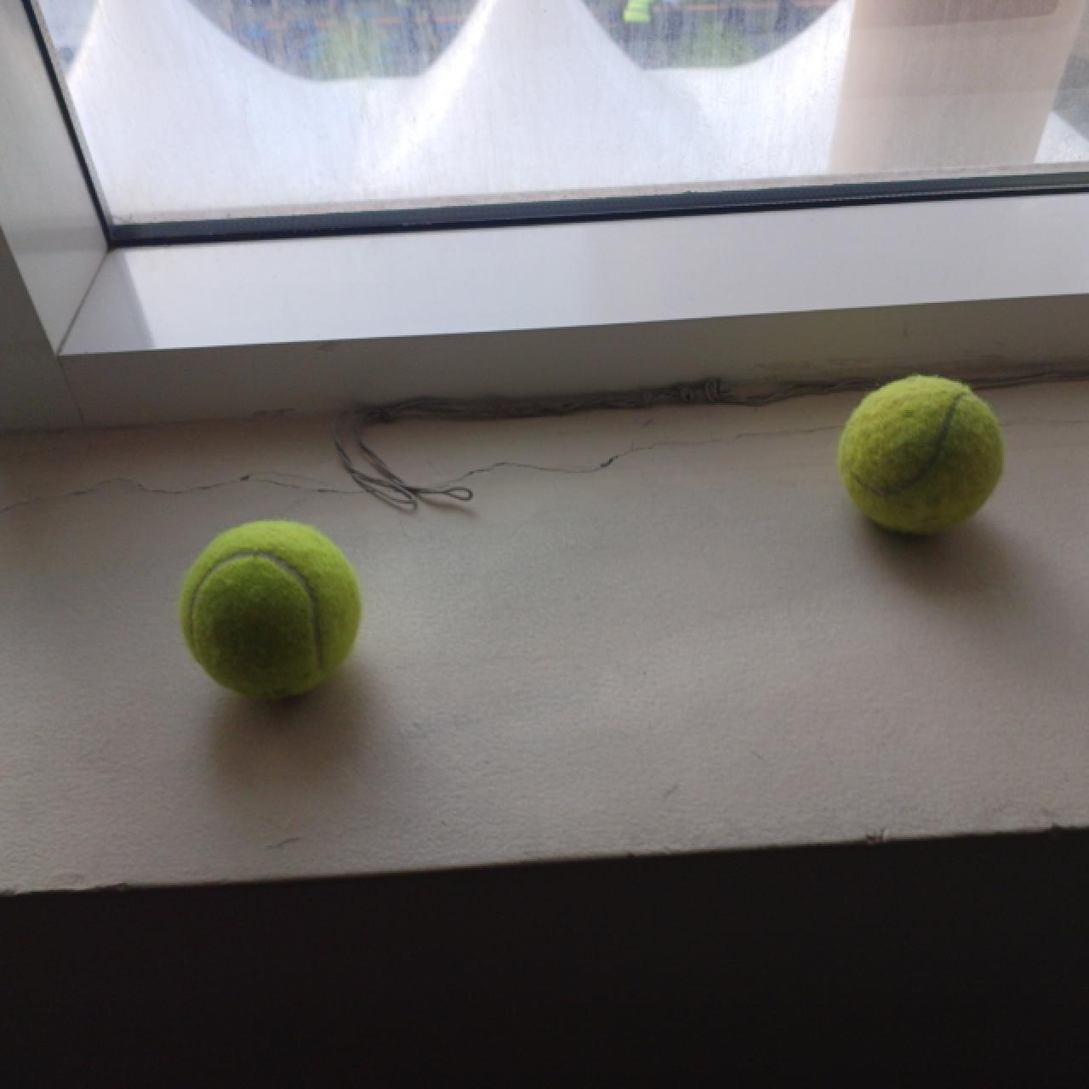tennis-ball: (176, 516, 363, 701), (836, 372, 1005, 535)
